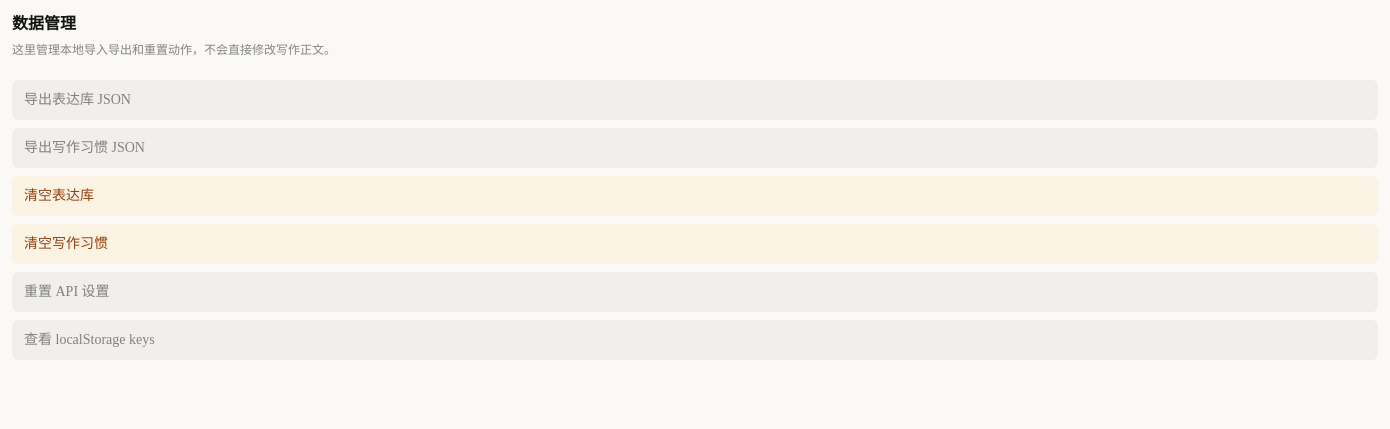
Test: DataControlPanel › shows failed message when clipboard write fails
Click the button "导出表达库 JSON": (77, 100) [12, 80, 1378, 120]
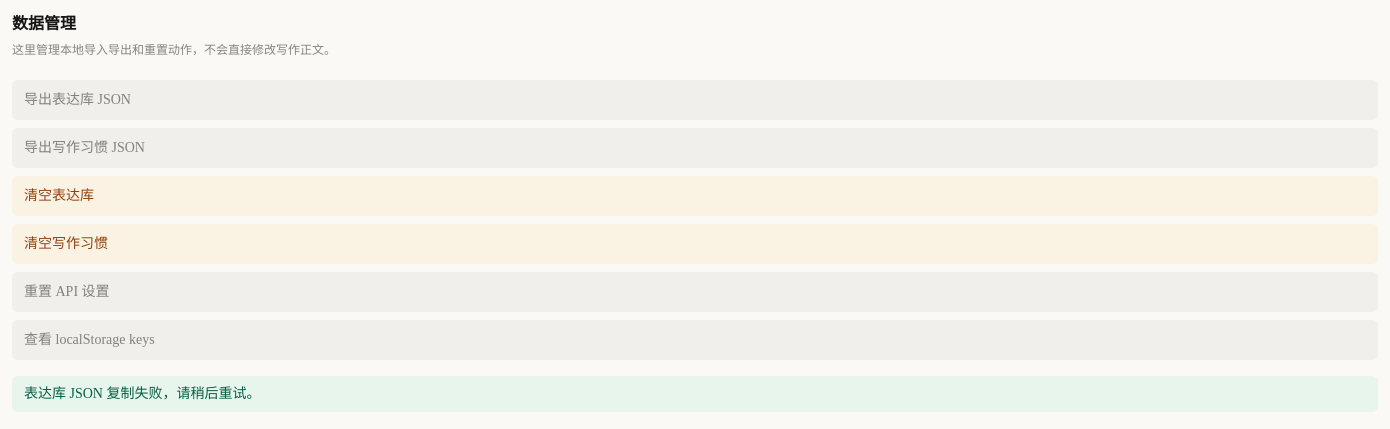
Check: the message reads "表达库 JSON 复制失败，请稍后重试。", box [24, 386, 260, 401]
